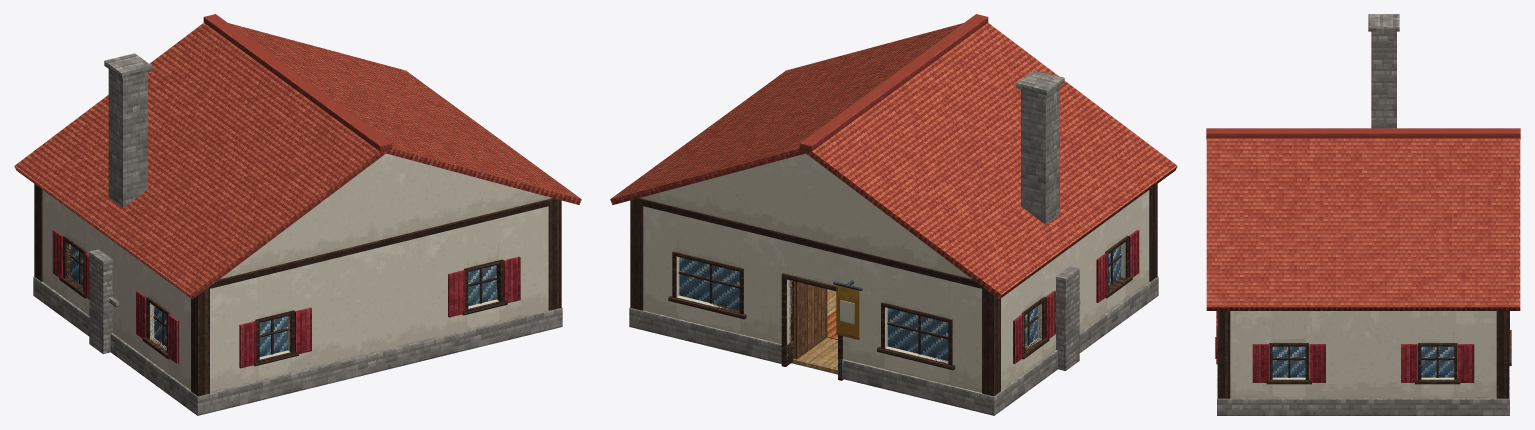
File: tavern.glb
3 views of the same model, side by side, from view 1: azimuth 30°, elevation 25°; view 2: azimuth 150°, elevation 25°; view 3: azimuth 270°, elevation 25° (orthographic). The views are drawn at different scales.
Visible parts, largest first — view 1: tavern; view 2: tavern; view 3: tavern.
Boxes of the visible parts, <box> form: tavern: <box>14,14,581,415</box>; tavern: <box>610,14,1177,415</box>; tavern: <box>1206,14,1520,415</box>.
Bounding box in the file's own units: 9.76 × 6.71 × 7.62.
15 materials, 15 textured.
